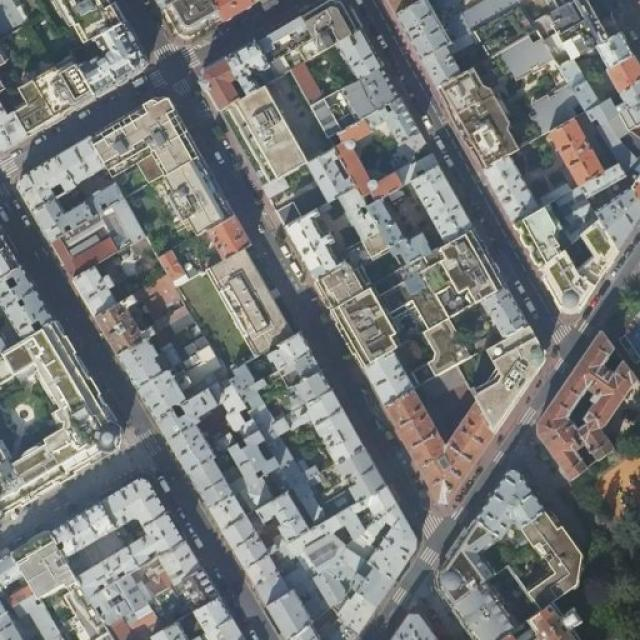immeuble: (443, 468, 580, 640), (358, 172, 502, 334), (279, 204, 426, 357), (384, 290, 490, 493), (105, 105, 237, 255), (146, 378, 284, 516), (56, 518, 240, 620), (529, 45, 640, 191), (108, 304, 228, 438), (444, 54, 554, 189), (28, 151, 150, 269), (204, 472, 330, 586), (204, 46, 311, 180), (244, 531, 372, 634), (252, 351, 351, 482), (282, 20, 399, 128), (301, 455, 402, 575), (329, 94, 429, 214), (549, 339, 638, 470), (12, 327, 102, 454), (520, 188, 613, 306), (445, 296, 541, 408), (0, 22, 92, 135), (79, 251, 191, 343), (56, 0, 155, 90), (476, 0, 601, 68), (394, 4, 494, 83), (0, 534, 68, 640), (0, 269, 61, 379), (0, 424, 79, 501)
